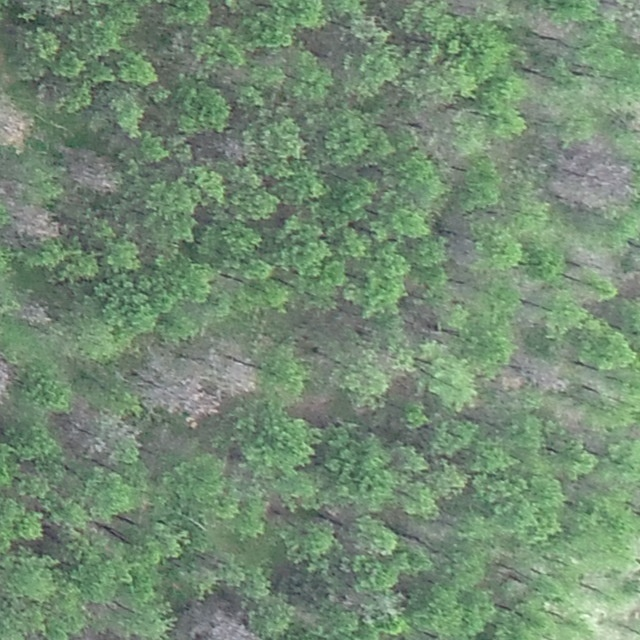unhealthy: (550, 131, 634, 213), (137, 359, 222, 424), (54, 395, 132, 465), (181, 598, 262, 640), (64, 150, 123, 193), (219, 345, 267, 395), (9, 202, 63, 242), (519, 356, 569, 392), (566, 243, 618, 276), (0, 97, 32, 149), (528, 10, 575, 42), (553, 403, 587, 432), (18, 300, 52, 327), (0, 349, 15, 410), (485, 367, 519, 392), (221, 136, 247, 164), (615, 269, 640, 298), (444, 0, 480, 18)
